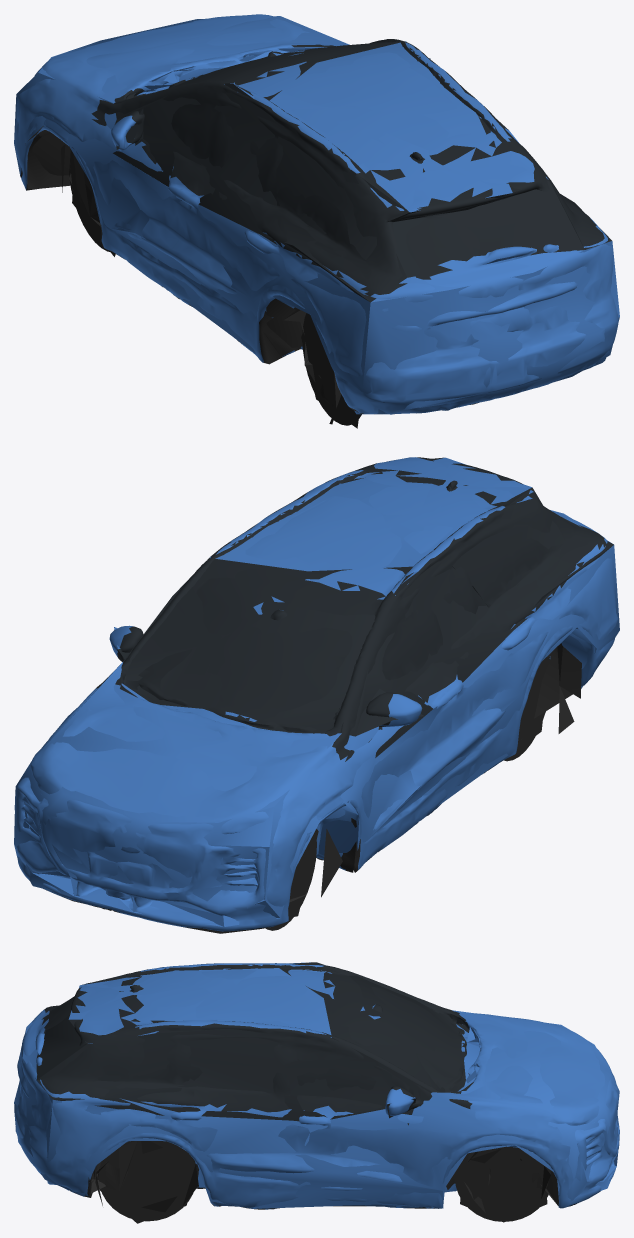
File: audi-q6-e-tron.glb
The picture shows the model from 3 angles, top to bottom: view 1: azimuth 30°, elevation 25°; view 2: azimuth 150°, elevation 25°; view 3: azimuth 270°, elevation 25°; orthographic projection. The views are drawn at different scales.
Parts seen in each view (by area): view 1: body, far; view 2: body, far; view 3: body, far.
Boxes of the visible parts, <box> form: body: <box>14,14,618,425</box>; far: <box>14,16,619,428</box>; body: <box>14,457,617,933</box>; far: <box>14,457,619,926</box>; body: <box>14,963,619,1221</box>; far: <box>14,962,619,1223</box>.
Size of the model in its own units: 2.19 by 1.72 by 4.81.
